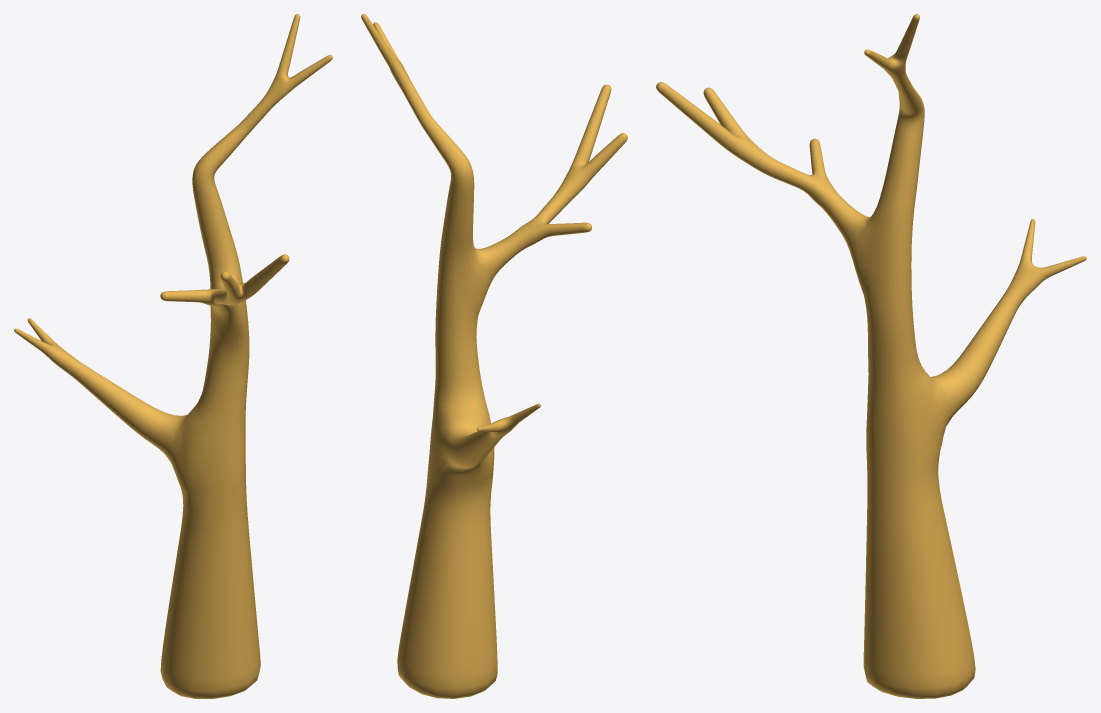
Rendered from tree_1.glb.
3 views of the same model, side by side, from view 1: azimuth 30°, elevation 25°; view 2: azimuth 150°, elevation 25°; view 3: azimuth 270°, elevation 25° (orthographic). The views are drawn at different scales.
Visible parts, largest first — view 1: tree_base; view 2: tree_base; view 3: tree_base.
Boxes of the visible parts, box(x1,y1,x2,y2) form: tree_base: box(14, 14, 332, 698); tree_base: box(361, 14, 627, 698); tree_base: box(656, 14, 1086, 698).
Size of the model in its own units: 1.65 by 4.21 by 2.29.
